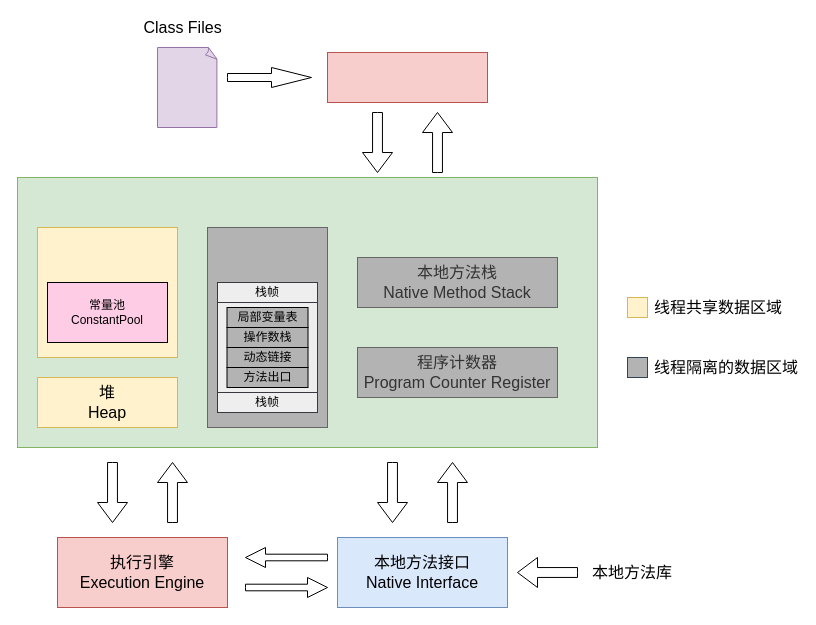
This 816x625 diagram has some shape labels left out. The box of each missing label's shape, as (x1, y1, x2, y2) in pixels:
方法区 Method Area: (36, 226, 178, 358)
类加载子系统 ClassLoader: (326, 52, 488, 102)
虚拟机栈 VM Stack: (206, 226, 328, 428)
运行时数据区（Runtime Data Area）: (16, 176, 598, 448)
